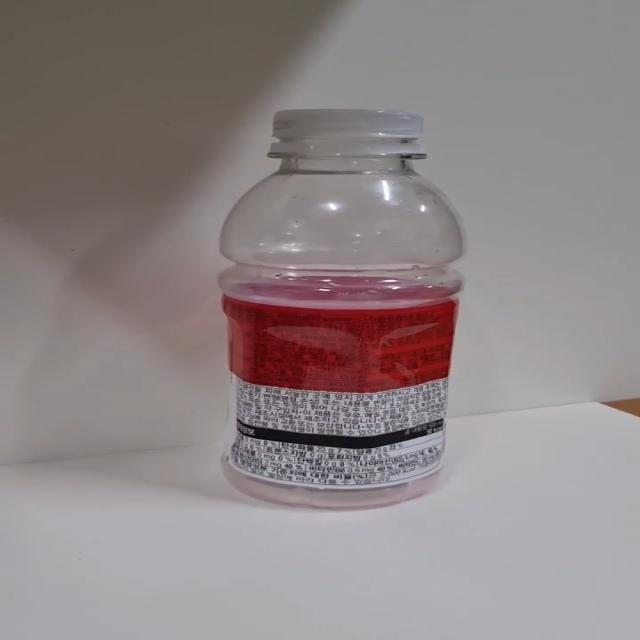Plastic: (215, 108, 467, 504)
